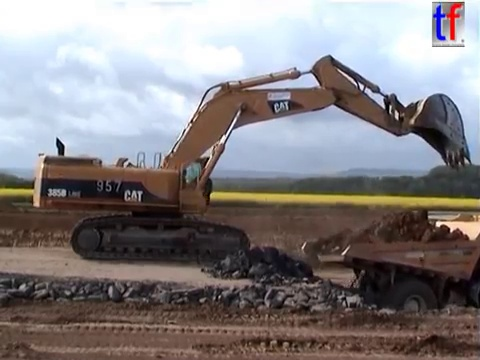excavator: (29, 52, 475, 265)
truck: (300, 230, 480, 338)
